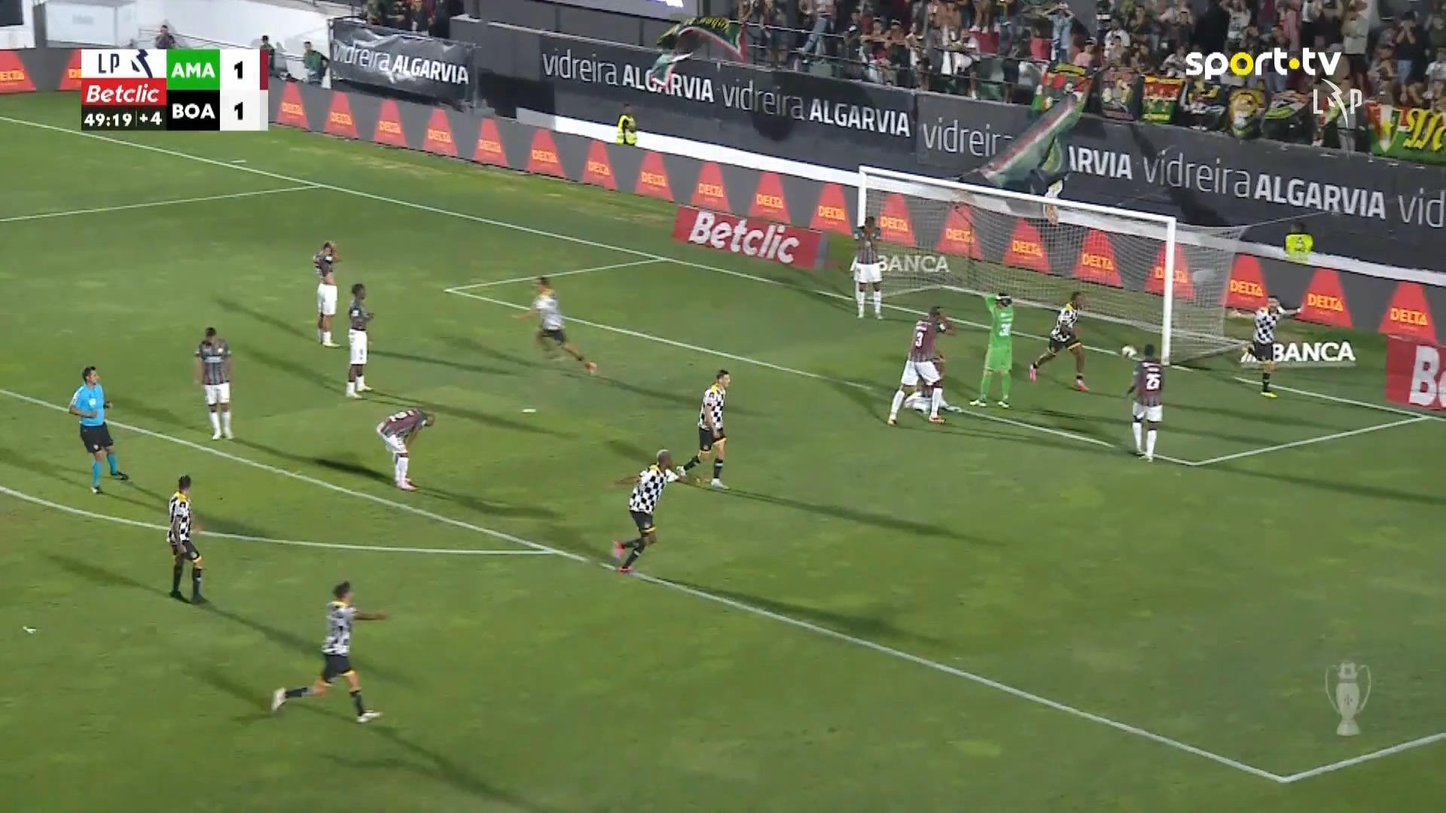ball: (1120, 345, 1136, 358), (584, 361, 596, 373)
goalkeeper: (968, 289, 1015, 408)
player: (269, 580, 387, 723), (612, 448, 700, 574), (511, 274, 596, 374), (886, 305, 956, 426), (1237, 294, 1303, 397), (1027, 289, 1091, 391), (681, 367, 731, 489), (1121, 342, 1164, 461), (166, 473, 205, 604), (375, 406, 435, 491), (193, 325, 234, 440), (848, 215, 886, 319), (901, 352, 953, 420), (344, 282, 374, 399), (311, 239, 342, 347)
referee: (67, 364, 129, 494)
